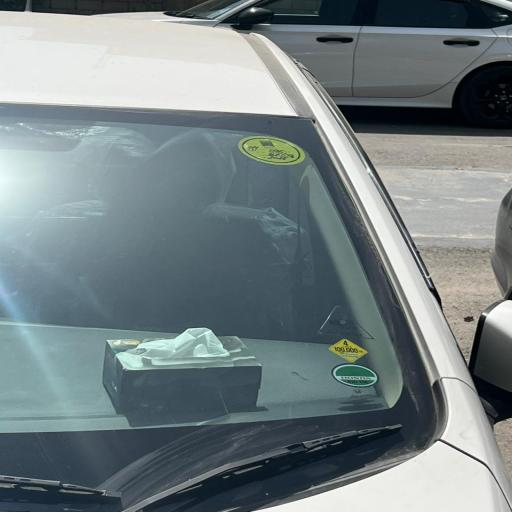bnu_sticker: (239, 132, 307, 169)
